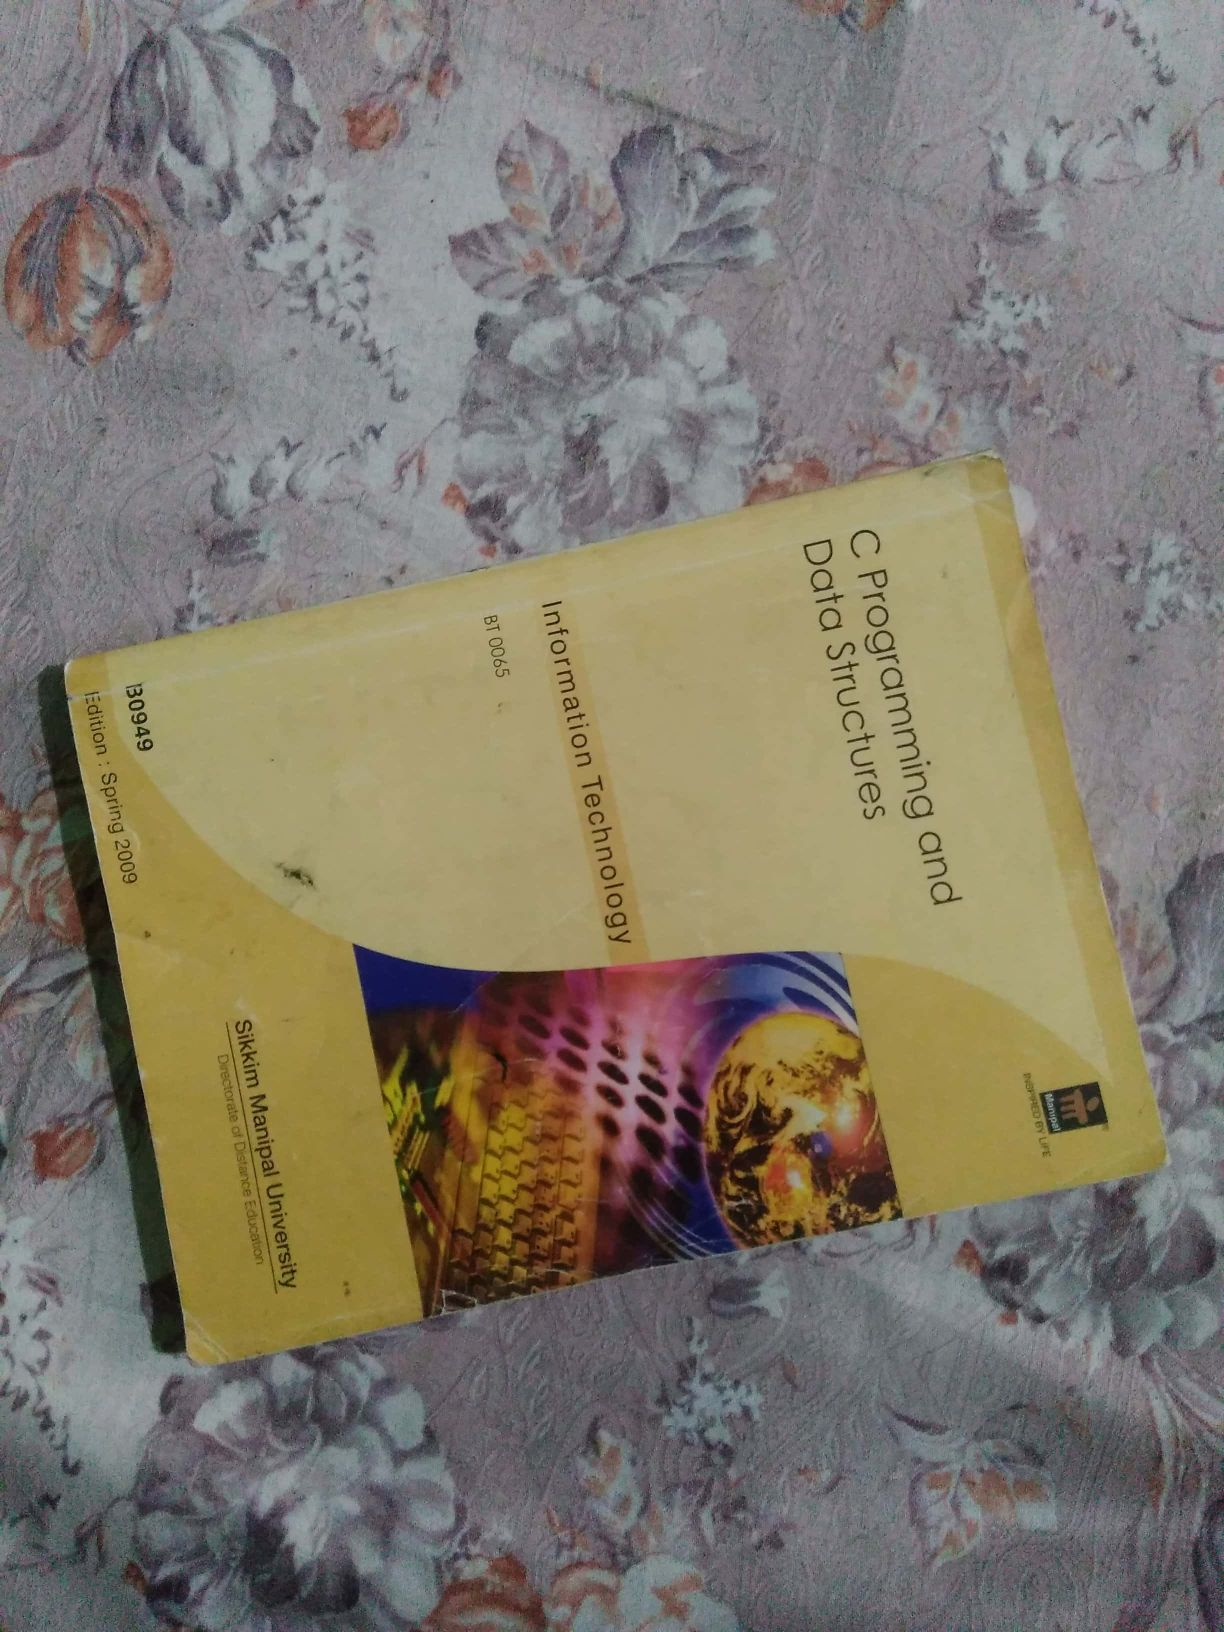clang: (66, 454, 1137, 1334)
